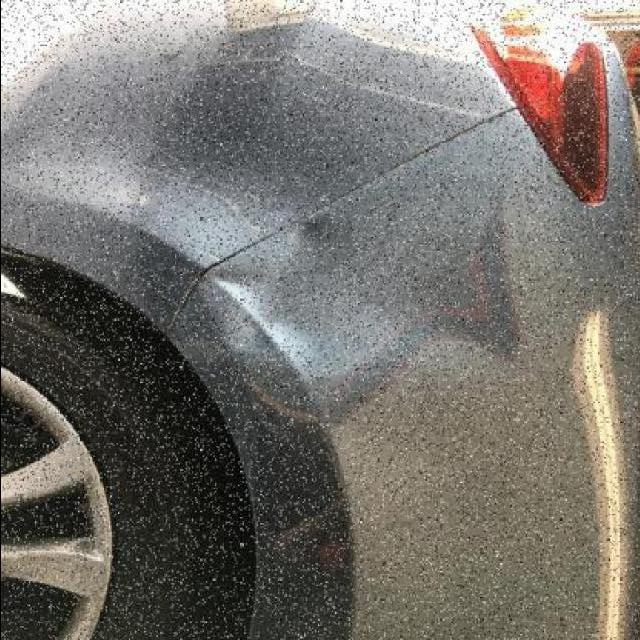quaterpanel-dent: (43, 137, 640, 639)
